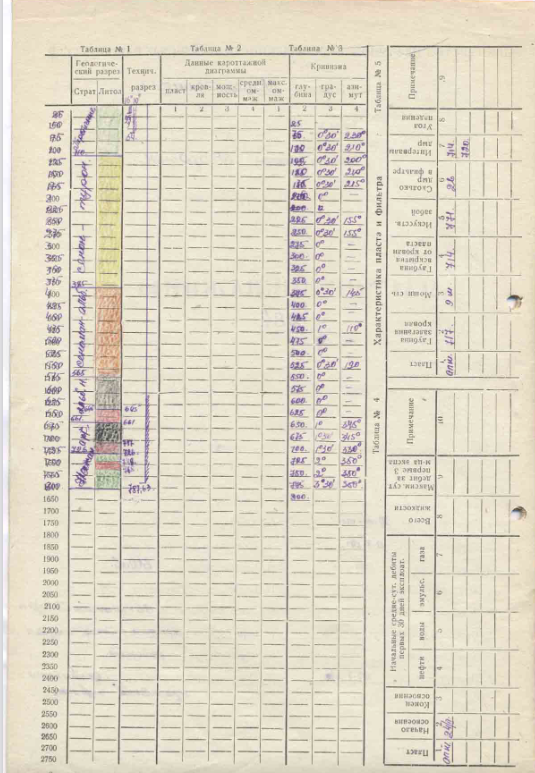Bordered: (288, 54, 367, 505)
